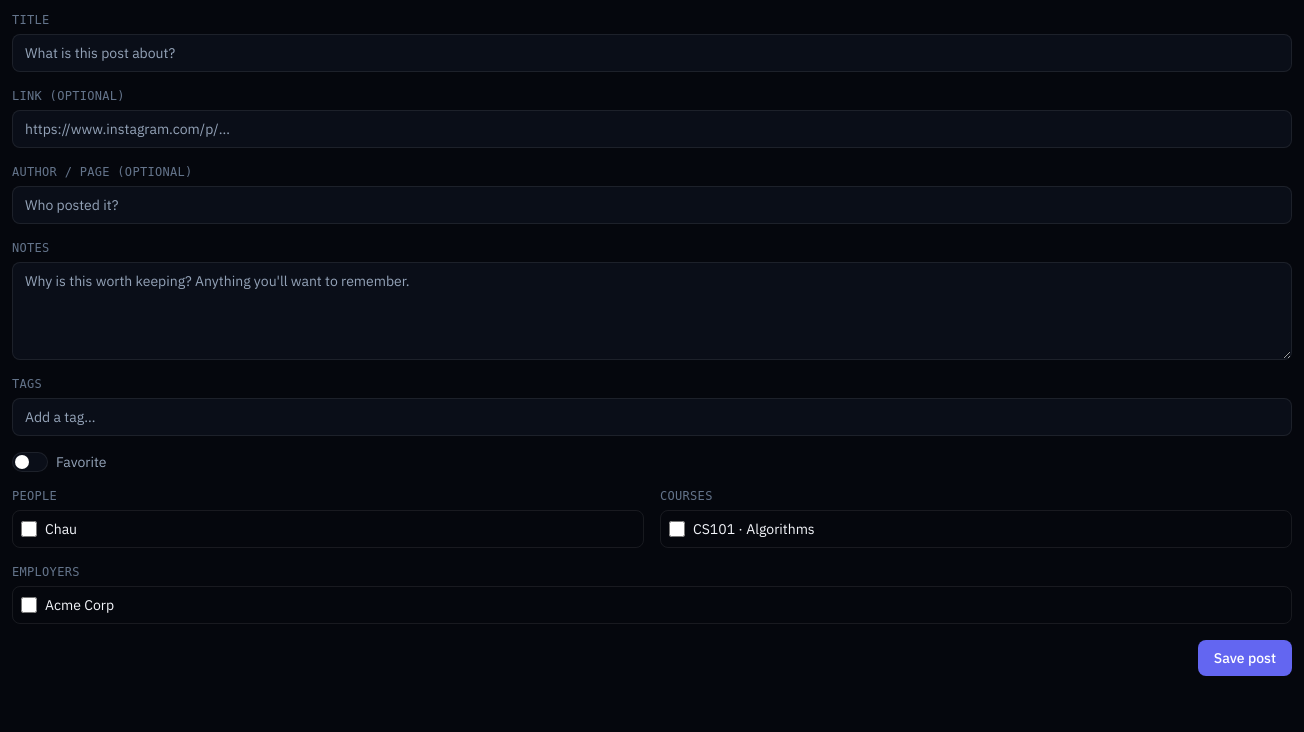
it: PostForm › shows 'Already saved — Open it' on a 409
Step 1. Type "Dup" into the field labelled "Title" → (652, 53), box [12, 34, 1292, 72]
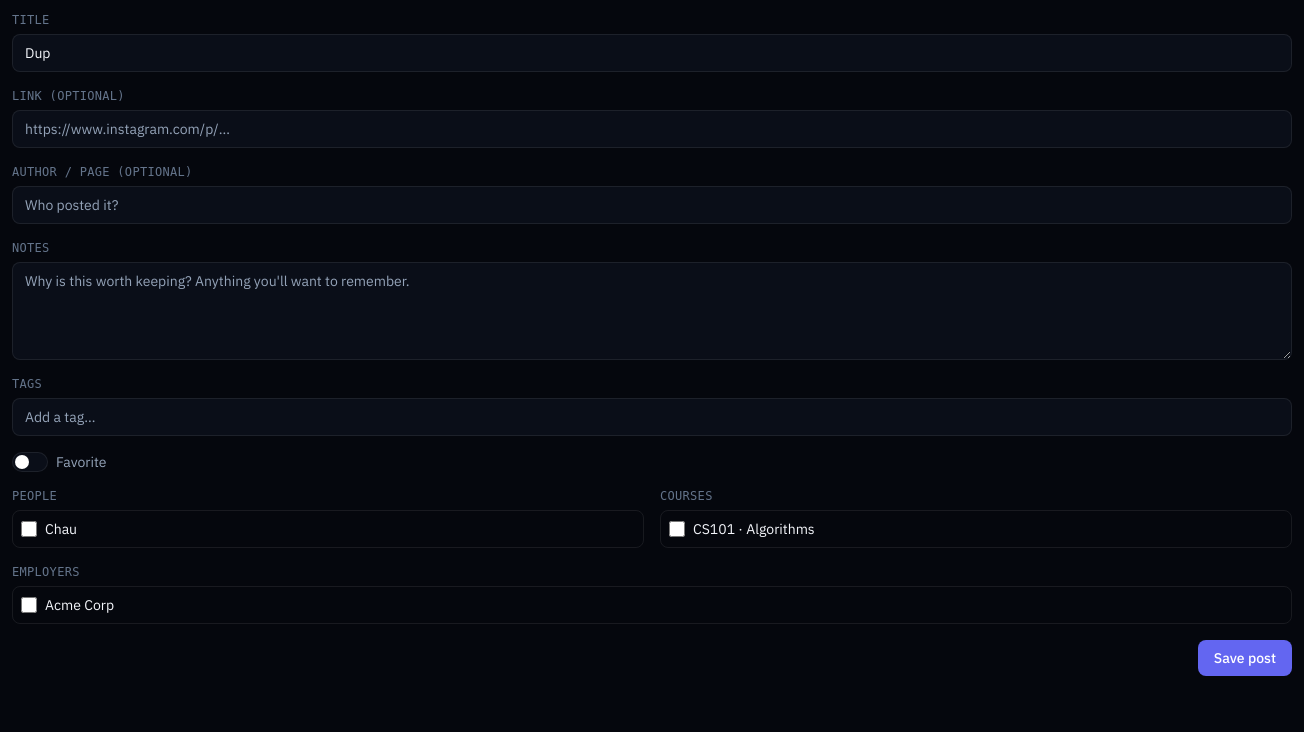
Step 2. Type "https://example.com/x" into the field labelled "Link (optional)" → (652, 129), box [12, 110, 1292, 148]
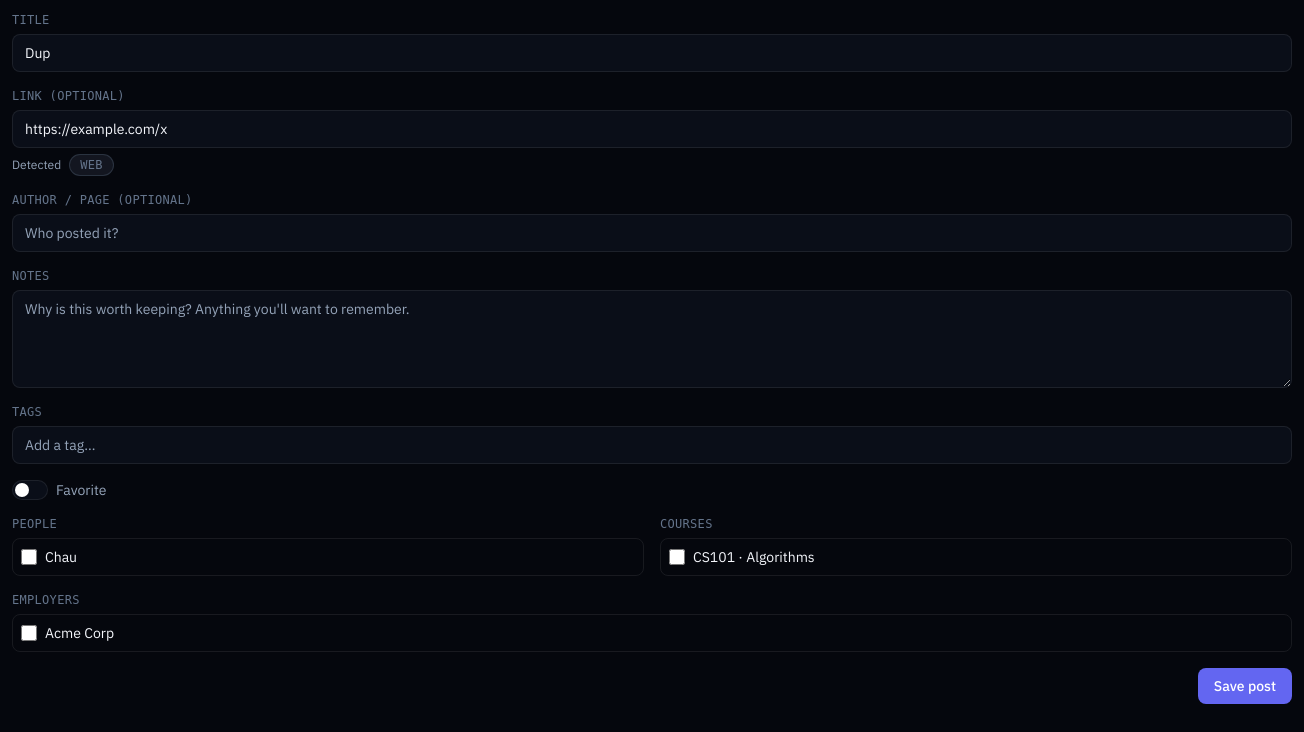
Step 3. Click the button "Save post" → (1245, 686), box [1198, 668, 1292, 704]
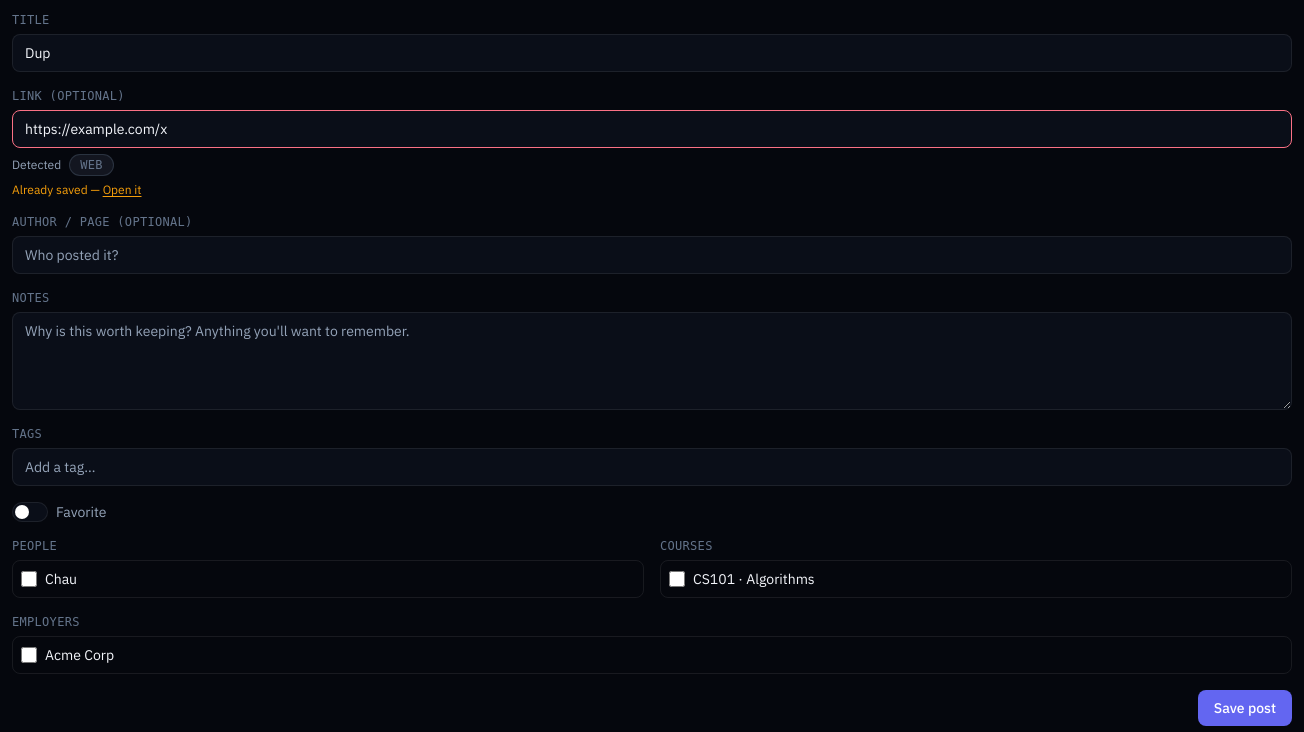
Result: the text "Already saved — Open it" is shown at [12, 182, 142, 197]
